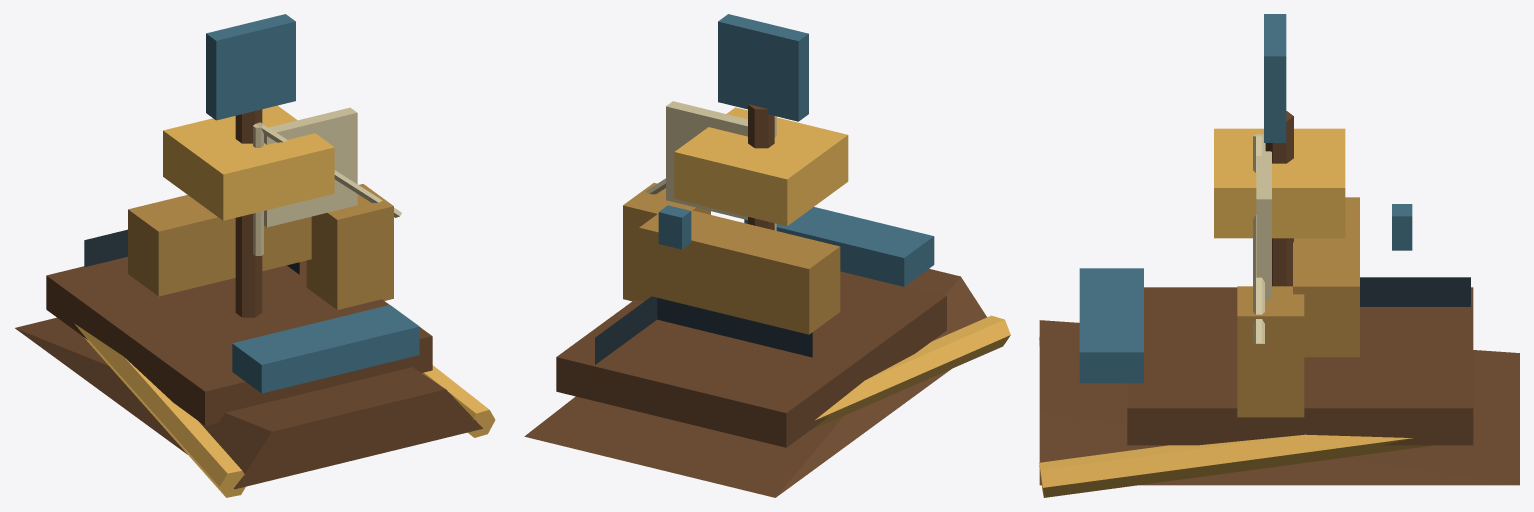
The model's file is raft.obj.
3 renders of one model, left to right at view 1: azimuth 30°, elevation 25°; view 2: azimuth 150°, elevation 25°; view 3: azimuth 270°, elevation 25°, orthographic. The views are drawn at different scales.
Visible parts, largest first — view 1: ship; view 2: ship; view 3: ship.
Part boxes in pixels (bbox=[...]): ship: bbox=[15, 14, 495, 497]; ship: bbox=[524, 14, 1010, 497]; ship: bbox=[1039, 14, 1519, 497].
Bounding box in the file's own units: 1.58 × 1.95 × 2.16.
